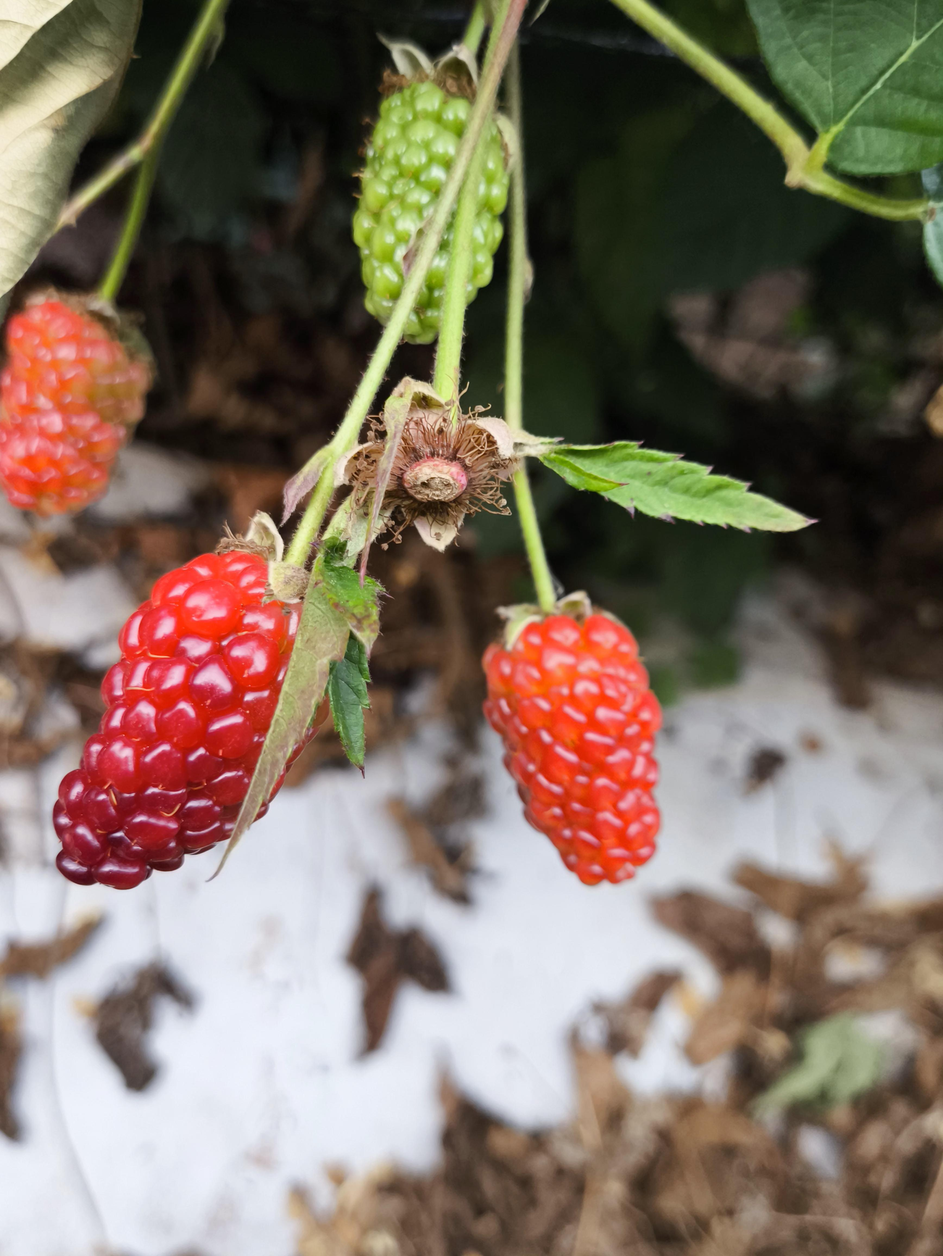marron: (54, 550, 299, 889)
naranja: (483, 609, 661, 885), (0, 297, 152, 515)
